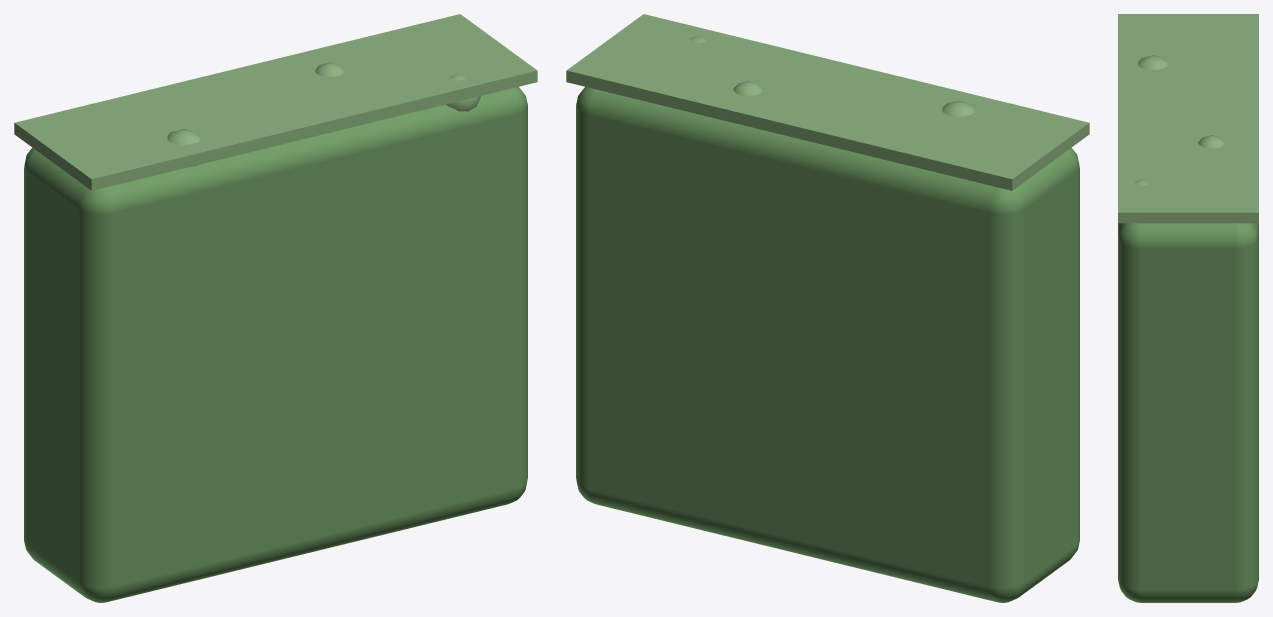
The model's file is hedge_tall.glb.
3 renders of one model, left to right at view 1: azimuth 30°, elevation 25°; view 2: azimuth 150°, elevation 25°; view 3: azimuth 270°, elevation 25°, orthographic. The views are drawn at different scales.
Visible parts, largest first — view 1: body, top; view 2: body, top; view 3: body, top, bump_1, bump_2.
Part boxes in pixels (left/top/right/bottom): body: left=24, top=86, right=527, bottom=602; top: left=14, top=14, right=537, bottom=190; body: left=576, top=86, right=1079, bottom=602; top: left=566, top=14, right=1089, bottom=190; body: left=1118, top=223, right=1258, bottom=602; top: left=1118, top=14, right=1258, bottom=223; bump_1: left=1138, top=55, right=1168, bottom=69; bump_2: left=1198, top=135, right=1225, bottom=148.
Bounding box in the file's own units: 2 × 1.9 × 0.6.
